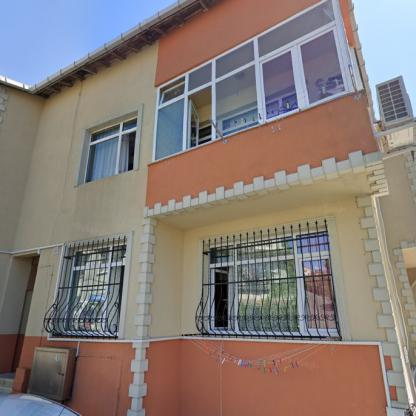window: (154, 1, 347, 160), (211, 232, 334, 328), (67, 248, 124, 329), (86, 118, 135, 181)
